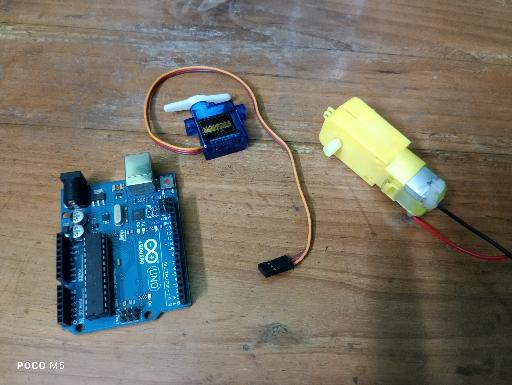Arduino: (56, 152, 192, 335)
Motor: (317, 97, 449, 218), (164, 93, 250, 161)
